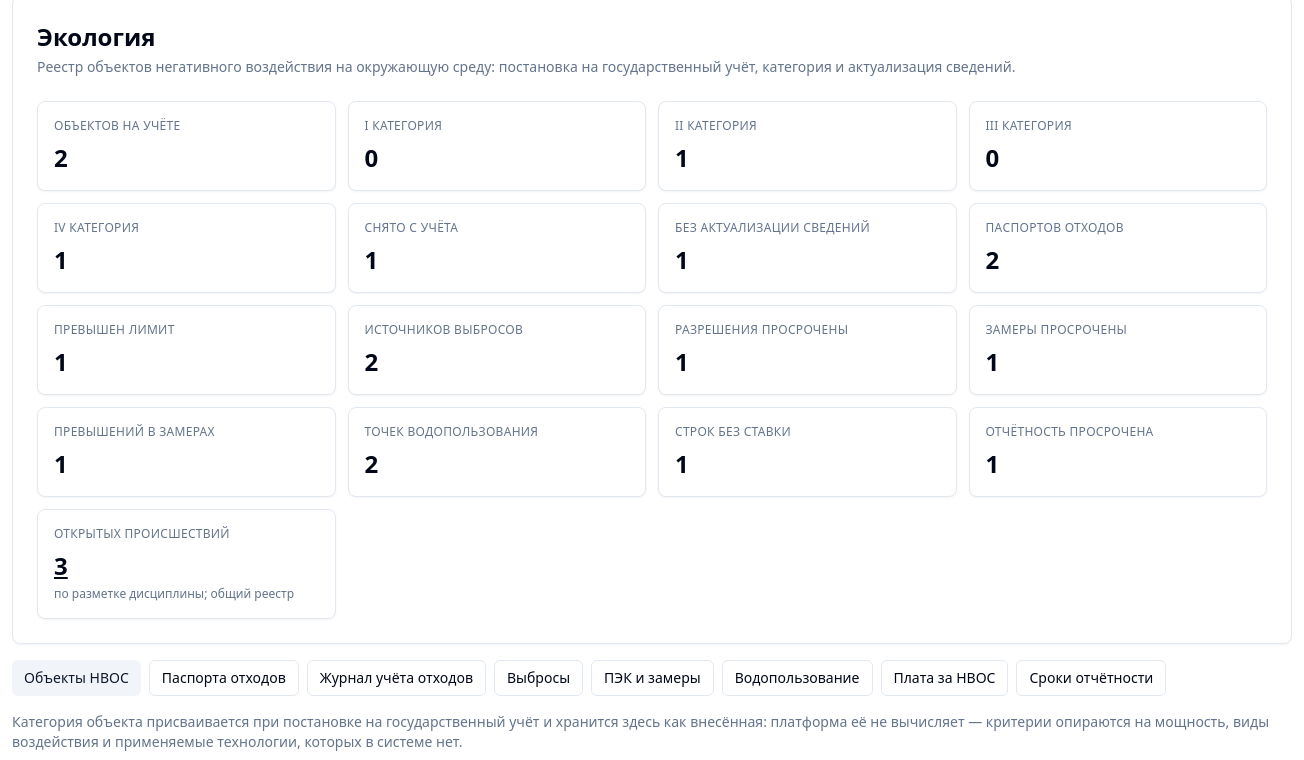
it: EcologyPage › договор в журнале назван контрагентом, а не «по договору» (срез-112)
Click the button "Журнал учёта отходов".
click(396, 678)  # box [307,660,486,696]
(page scrolled)
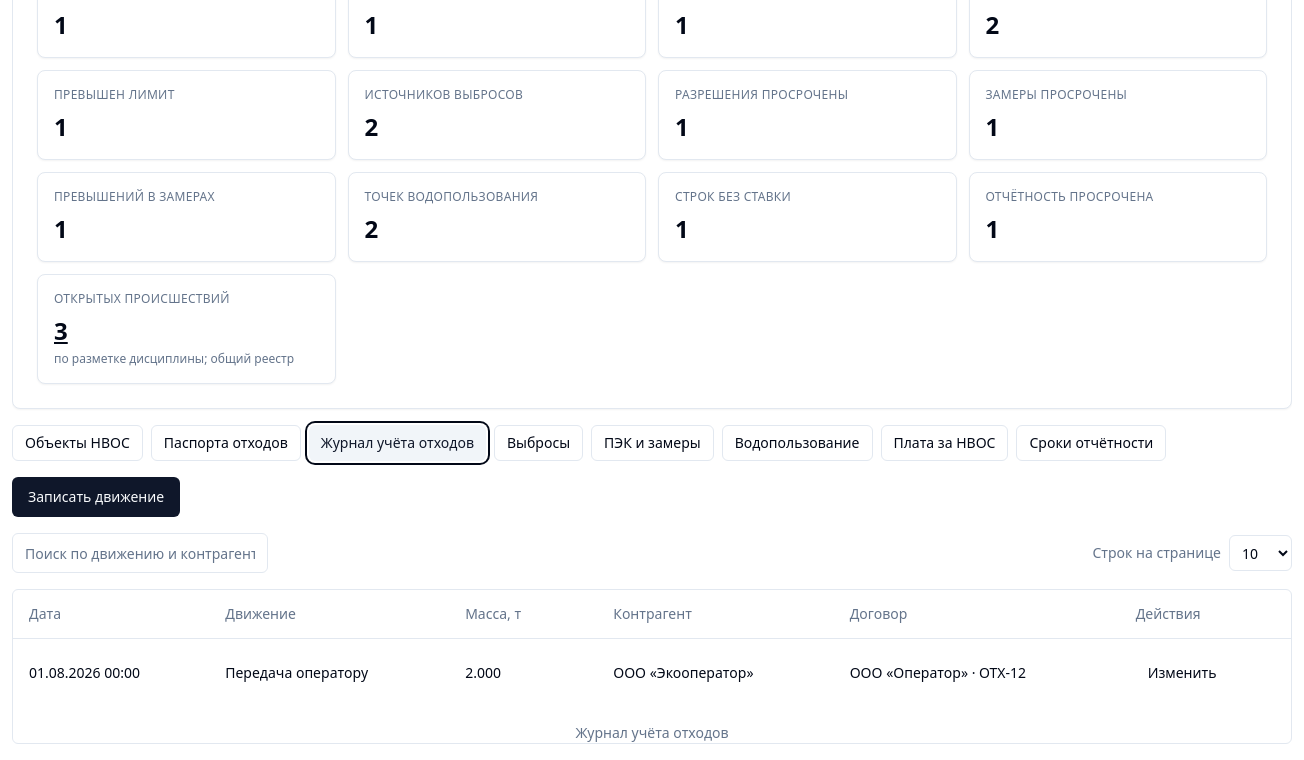
Now the text "ООО «Оператор» · ОТХ-12" is shown, box [834,638,1120,706]
